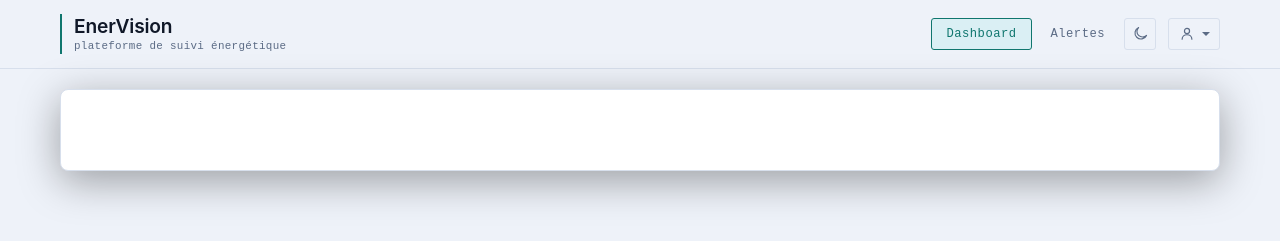
App › regroupe mot de passe et déconnexion dans le menu du compte
This screenshot has width=1280, height=241.
Click the button with class "user-menu-trigger" at point(1194, 34), box [1168, 18, 1220, 50]
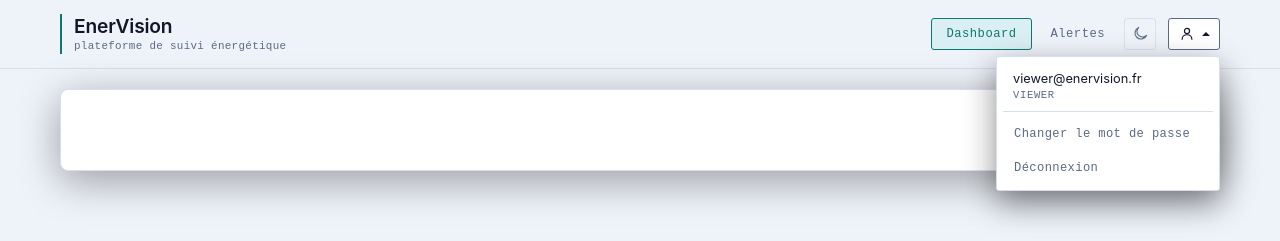
Expected: the menu with class "user-menu-panel" is shown, [996, 56, 1220, 191]
Expected: the menu with class "user-menu-panel" shows "viewer@enervision.fr", [1013, 71, 1142, 86]
Expected: the menu with class "user-menu-panel" shows "Changer le mot de passe", [1003, 118, 1213, 150]
